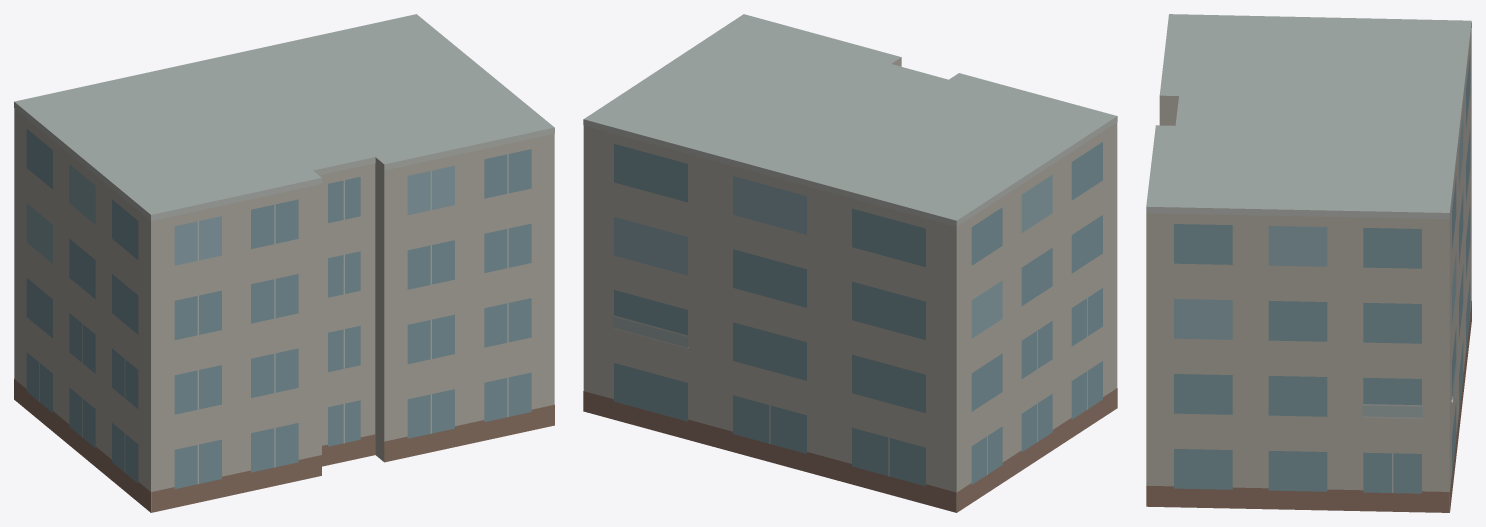
The model's file is survey-upis-32607304.glb.
3 views of the same model, side by side, from view 1: azimuth 30°, elevation 25°; view 2: azimuth 150°, elevation 25°; view 3: azimuth 270°, elevation 25° (orthographic). The views are drawn at different scales.
Parts seen in each view (by area): view 1: survey-upis-32607304.tmp; view 2: survey-upis-32607304.tmp; view 3: survey-upis-32607304.tmp.
Boxes of the visible parts, left/top/right/bottom form: survey-upis-32607304.tmp: left=14, top=14, right=554, bottom=512; survey-upis-32607304.tmp: left=583, top=14, right=1117, bottom=512; survey-upis-32607304.tmp: left=1146, top=14, right=1471, bottom=512.
Size of the model in its own units: 16.66 by 11.7 by 11.52.
